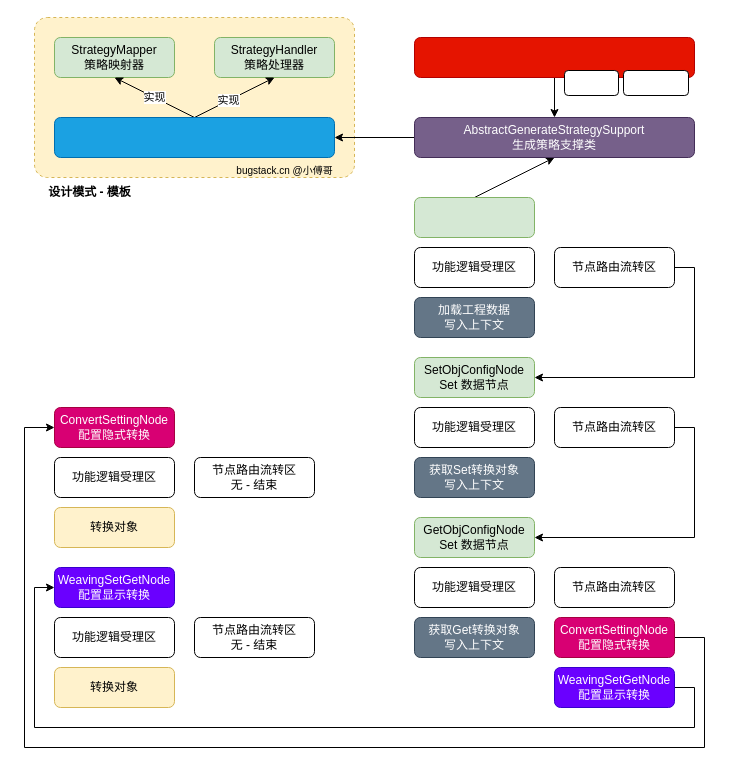
This 730x773 diagram has some shape labels left out. Here are the shapes that lost their labels. From the top down, the centre of each, then its label:
At point 554,57: "DefaultGenerateStrategyFactory 生成策略工厂".
At point 591,83: "注册路由".
At point 655,83: "上下文对象".
At point 194,137: "AbstractStrategyRouter<T, D, R> 策略路由抽象类".
At point 474,217: "RootNode 根节点".
